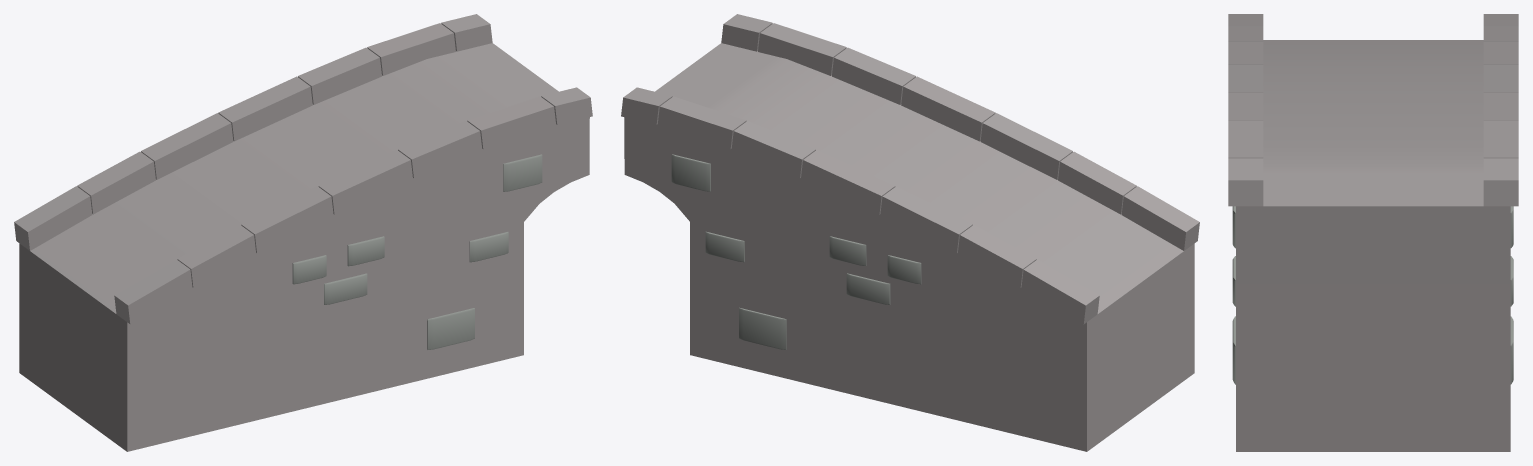
File: StoneBridge3.fbx
3 renders of one model, left to right at view 1: azimuth 30°, elevation 25°; view 2: azimuth 150°, elevation 25°; view 3: azimuth 270°, elevation 25°, orthographic. The views are drawn at different scales.
Visible parts, largest first — view 1: Cube.036; view 2: Cube.036; view 3: Cube.036.
Boxes of the visible parts, x1,y1,x2,y2 form: Cube.036: (14,14,592,451); Cube.036: (621,14,1199,451); Cube.036: (1228,14,1518,451).
Bounding box in the file's own units: 498 × 250 × 212.
Materials: 1 (1 with a texture image).
